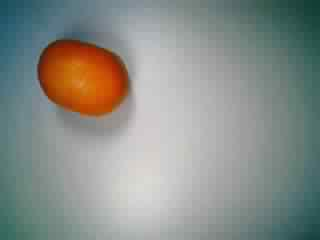orange: (35, 33, 135, 120)
